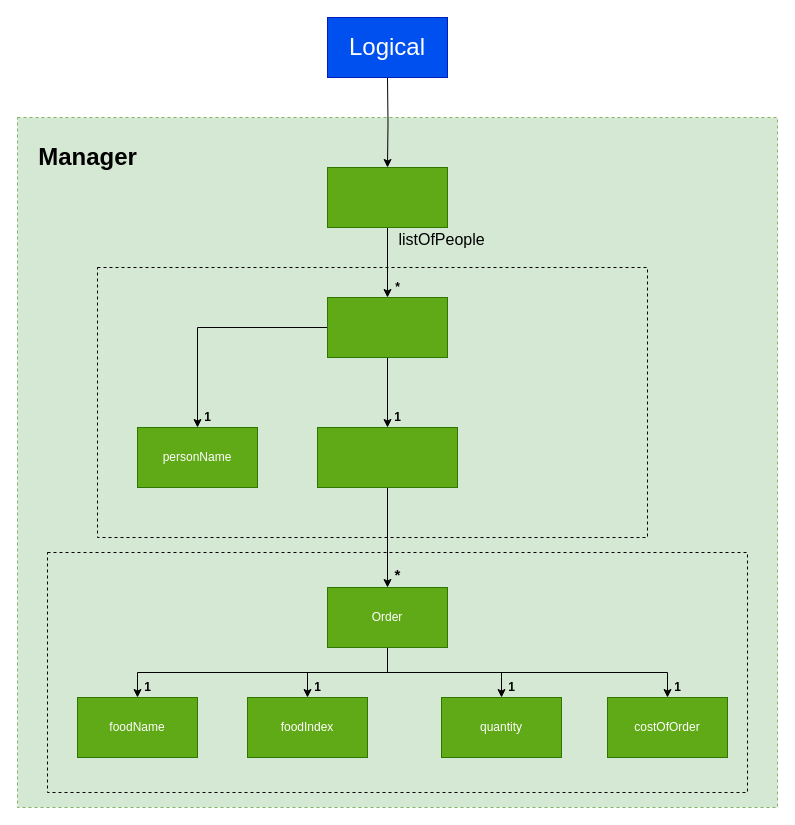
The diagram is 795 pixels wide and 825 high, and some of its shapes have lost their labels. The centre of each missing label's shape, as x and y in pixels:
"individualFoodOrders" belongs at [387,457].
"PeopleManager" belongs at [387,197].
"Person" belongs at [387,327].
